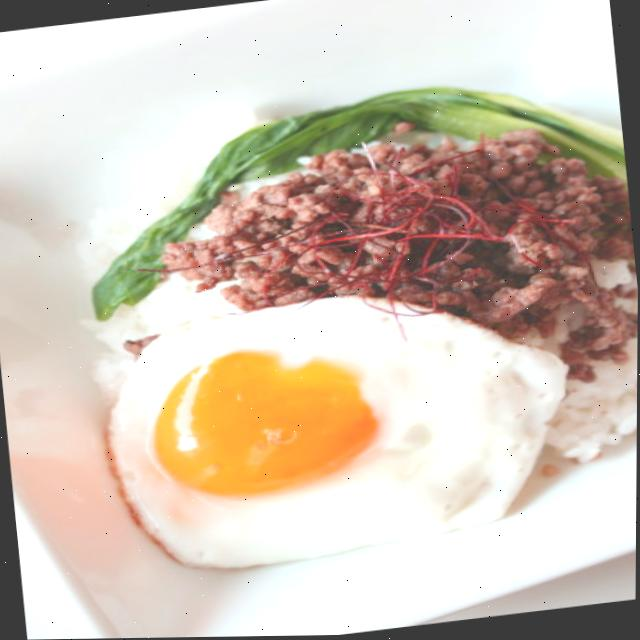鸡蛋料理: (82, 274, 562, 595)
